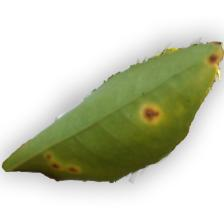black spot: (26, 90, 181, 186)
